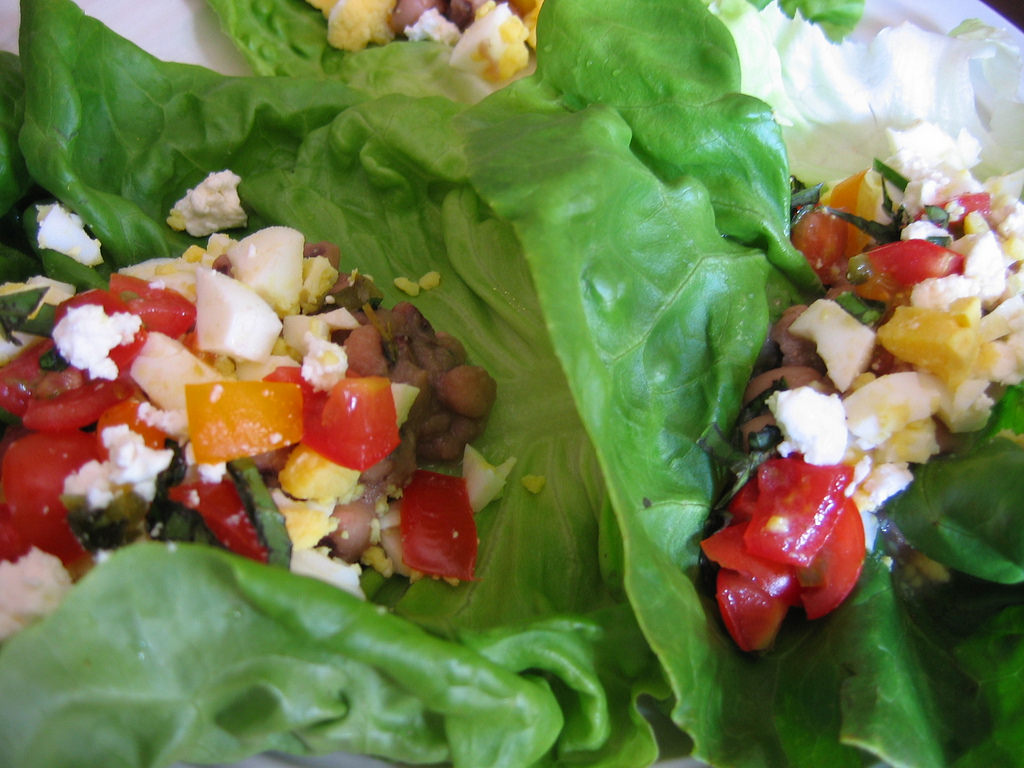chopped lettuce: (365, 127, 704, 704)
